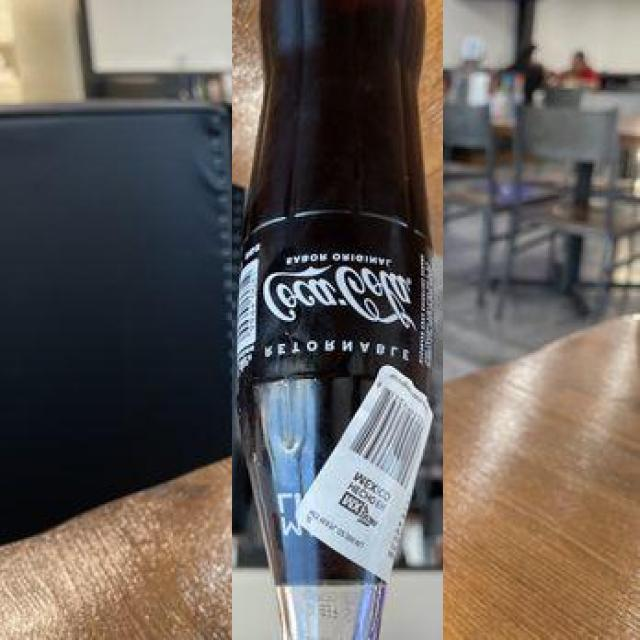coca-cola: (232, 0, 443, 640)
